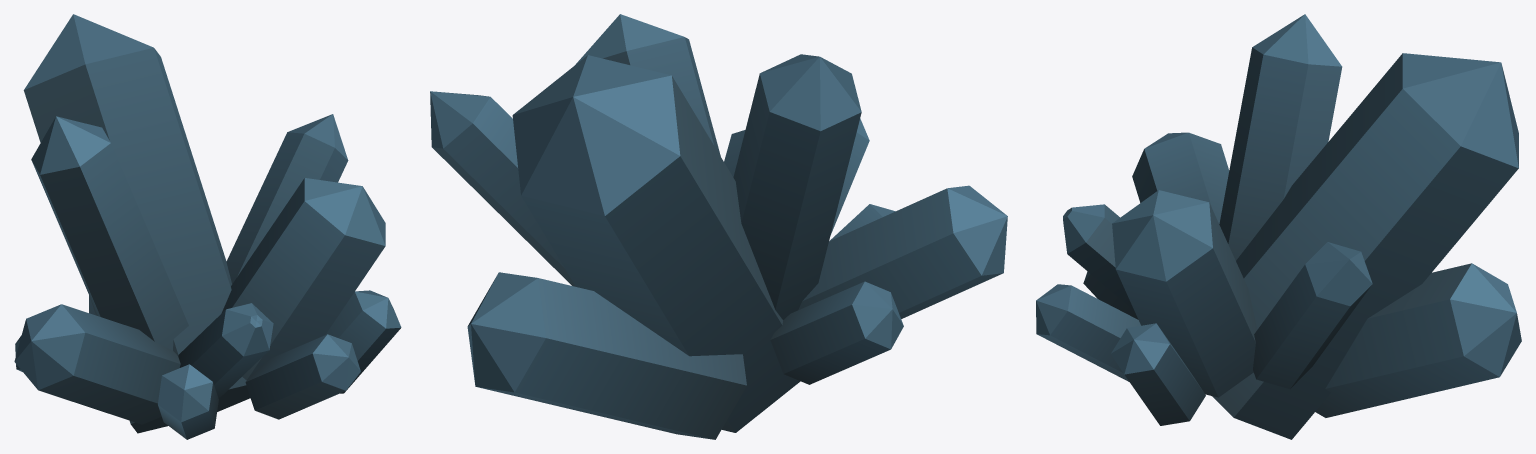
The model's file is geology-crystals-calcitecluster_v3.fbx.
3 views of the same model, side by side, from view 1: azimuth 30°, elevation 25°; view 2: azimuth 150°, elevation 25°; view 3: azimuth 270°, elevation 25° (orthographic). The views are drawn at different scales.
Parts seen in each view (by area): view 1: CalciteCluster_v3; view 2: CalciteCluster_v3; view 3: CalciteCluster_v3.
Part boxes in pixels (x1,y1,x2,y2): CalciteCluster_v3: [14, 14, 401, 439]; CalciteCluster_v3: [430, 14, 1007, 439]; CalciteCluster_v3: [1036, 14, 1521, 439].
Size of the model in its own units: 9.67 by 8.09 by 9.9.
